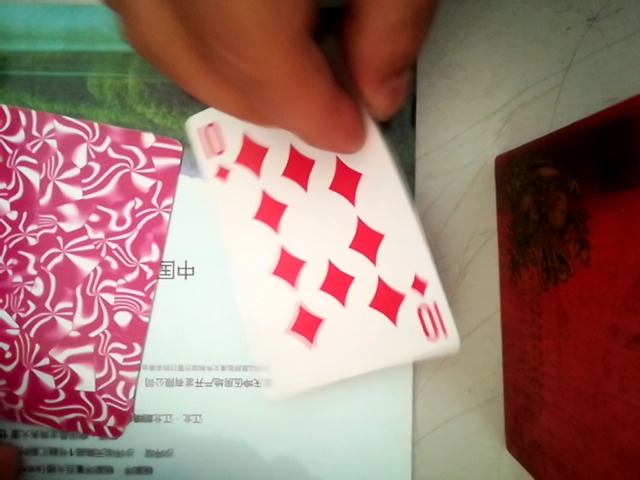fk 10: (147, 105, 455, 395)
